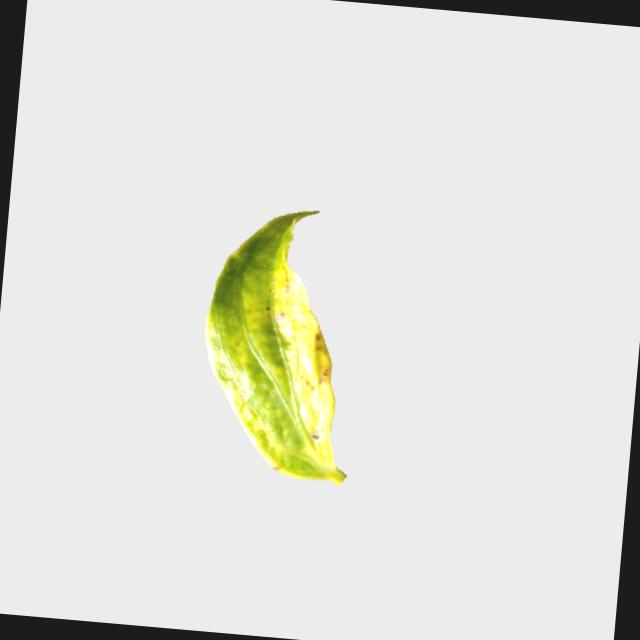yellow-mottle-virus: (192, 203, 371, 486)
